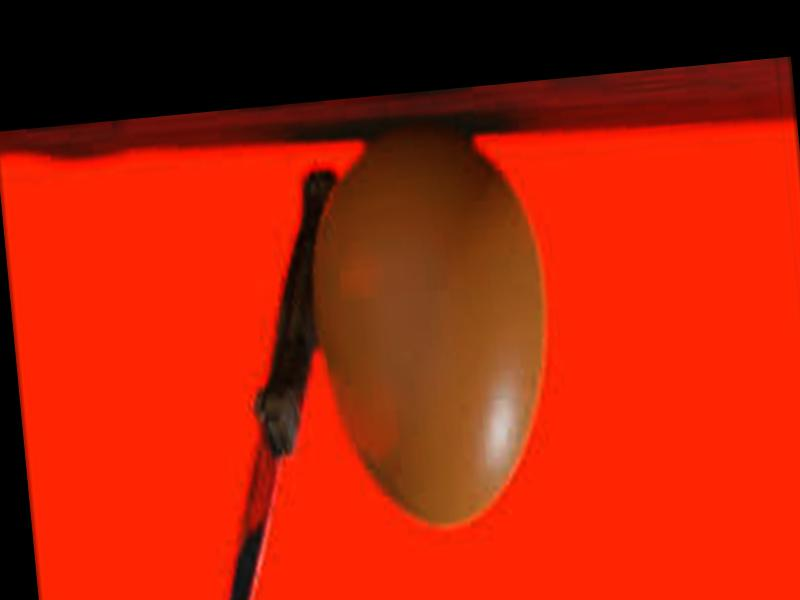Eggs: (300, 124, 563, 533)
